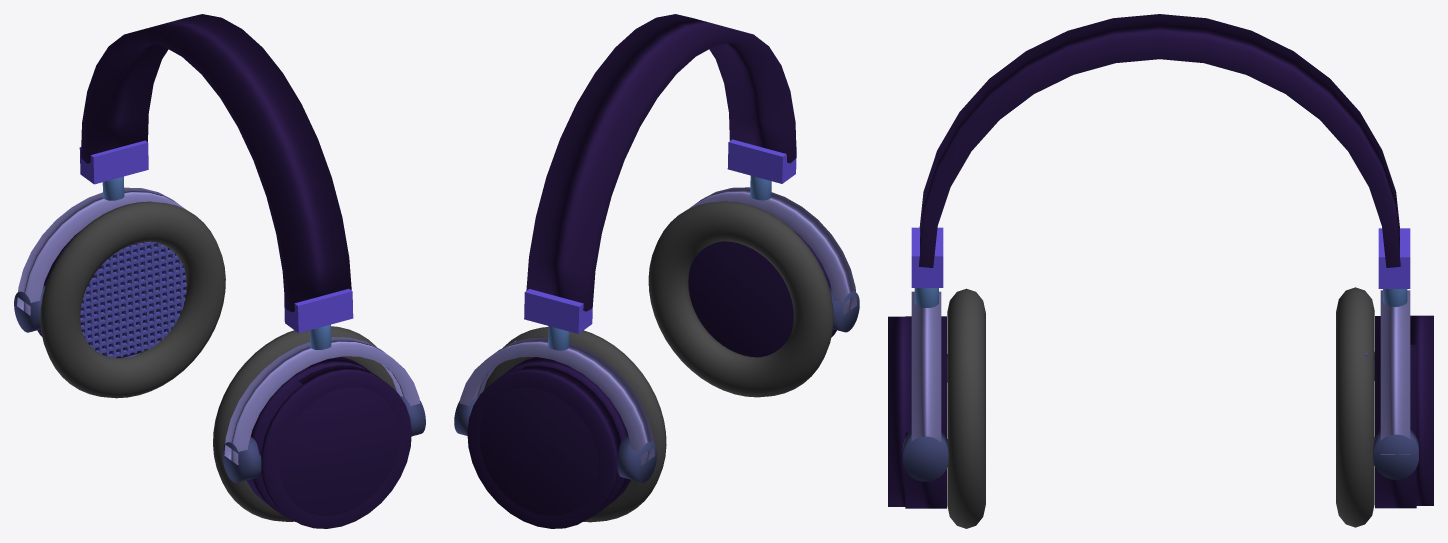
Rendered from headset.fbx.
3 views of the same model, side by side, from view 1: azimuth 30°, elevation 25°; view 2: azimuth 150°, elevation 25°; view 3: azimuth 270°, elevation 25° (orthographic). The views are drawn at different scales.
Visible parts, largest first — view 1: Cylinder.005, Torus.001, Cylinder, Cylinder.001, Cube.004, Cube.001, Cylinder.007, Cylinder.004; view 2: Cylinder, Cylinder.005, Torus.001, Cylinder.001, Cube.001, Cylinder.007, Cylinder.004; view 3: Cylinder.005, Torus.001, Cylinder, Cylinder.001, Cylinder.007, Cube.001, Cylinder.004.
Part boxes in pixels (left/top/right/bottom): Cylinder.005: left=81, top=14, right=351, bottom=312; Torus.001: left=40, top=201, right=396, bottom=521; Cylinder: left=37, top=230, right=411, bottom=528; Cylinder.001: left=17, top=187, right=420, bottom=464; Cube.004: left=59, top=241, right=186, bottom=358; Cube.001: left=79, top=140, right=353, bottom=333; Cylinder.007: left=14, top=286, right=425, bottom=482; Cylinder.004: left=102, top=176, right=331, bottom=349; Cylinder: left=467, top=230, right=836, bottom=528; Cylinder.005: left=526, top=14, right=796, bottom=311; Torus.001: left=483, top=201, right=833, bottom=522; Cylinder.001: left=459, top=187, right=856, bottom=465; Cube.001: left=524, top=139, right=796, bottom=333; Cylinder.007: left=454, top=287, right=859, bottom=482; Cylinder.004: left=548, top=175, right=771, bottom=350; Cylinder.005: left=919, top=14, right=1400, bottom=267; Torus.001: left=947, top=287, right=1374, bottom=528; Cylinder: left=888, top=315, right=1433, bottom=508; Cylinder.001: left=911, top=290, right=1410, bottom=454; Cylinder.007: left=902, top=352, right=1418, bottom=481; Cube.001: left=911, top=227, right=1410, bottom=288; Cylinder.004: left=914, top=288, right=1407, bottom=307.
Size of the model in its own units: 257 by 555 by 568.
